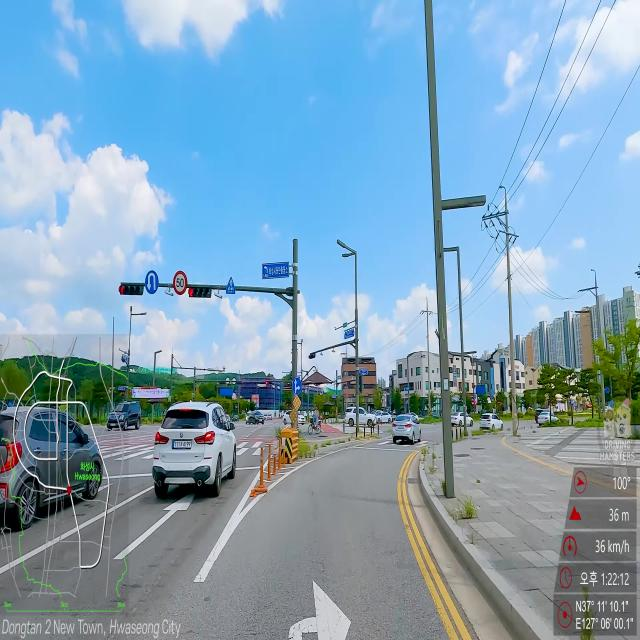Red Light: (188, 287, 194, 297), (119, 284, 124, 295)
